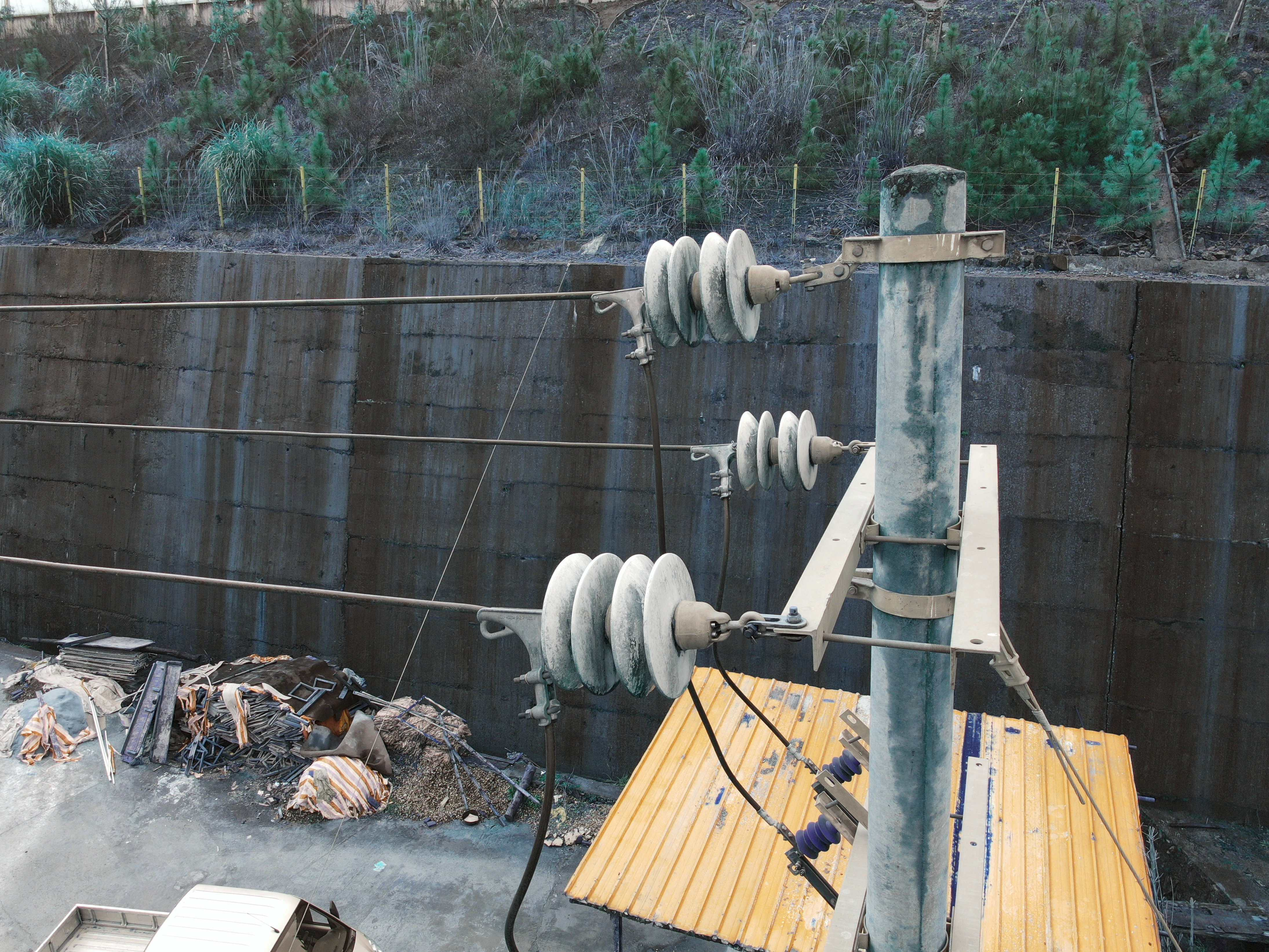severe_soiling_no_discharge_whole: (537, 547, 730, 701), (640, 225, 788, 350), (734, 406, 844, 491)
